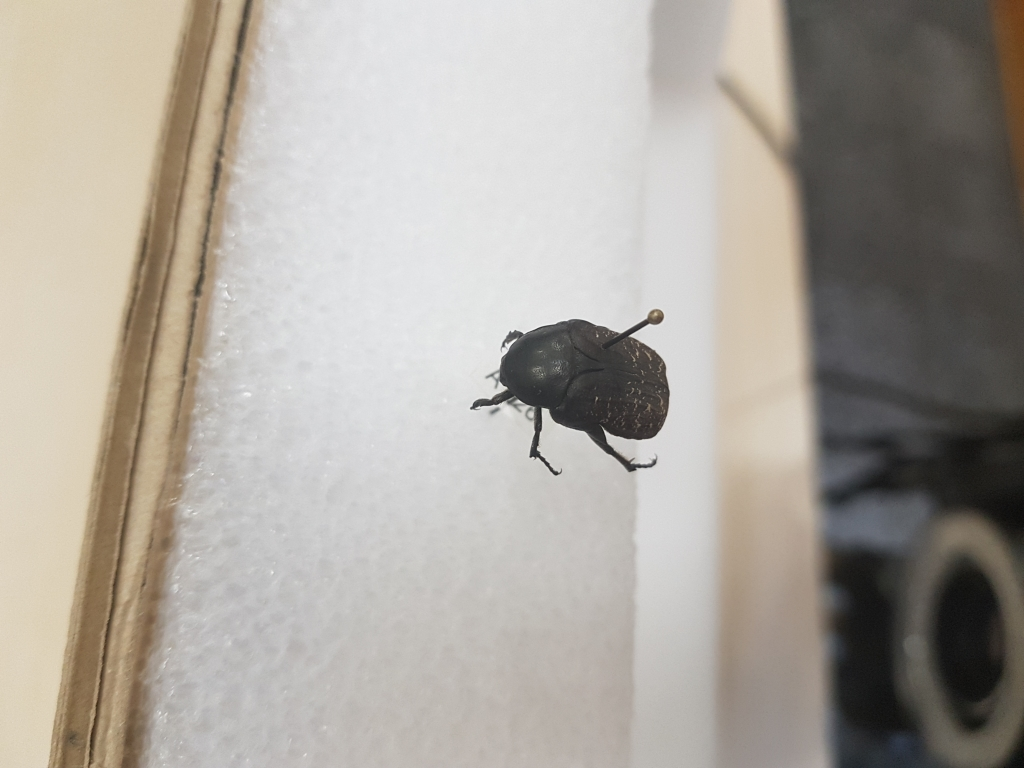Protaetia_oblonga: (466, 314, 681, 477)
